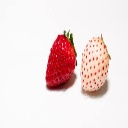strawberry: (45, 26, 77, 92), (78, 37, 112, 94)
